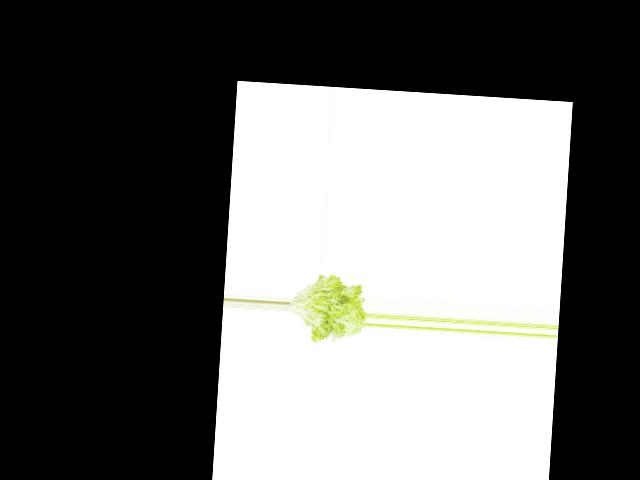lettuce: (285, 268, 368, 345)
